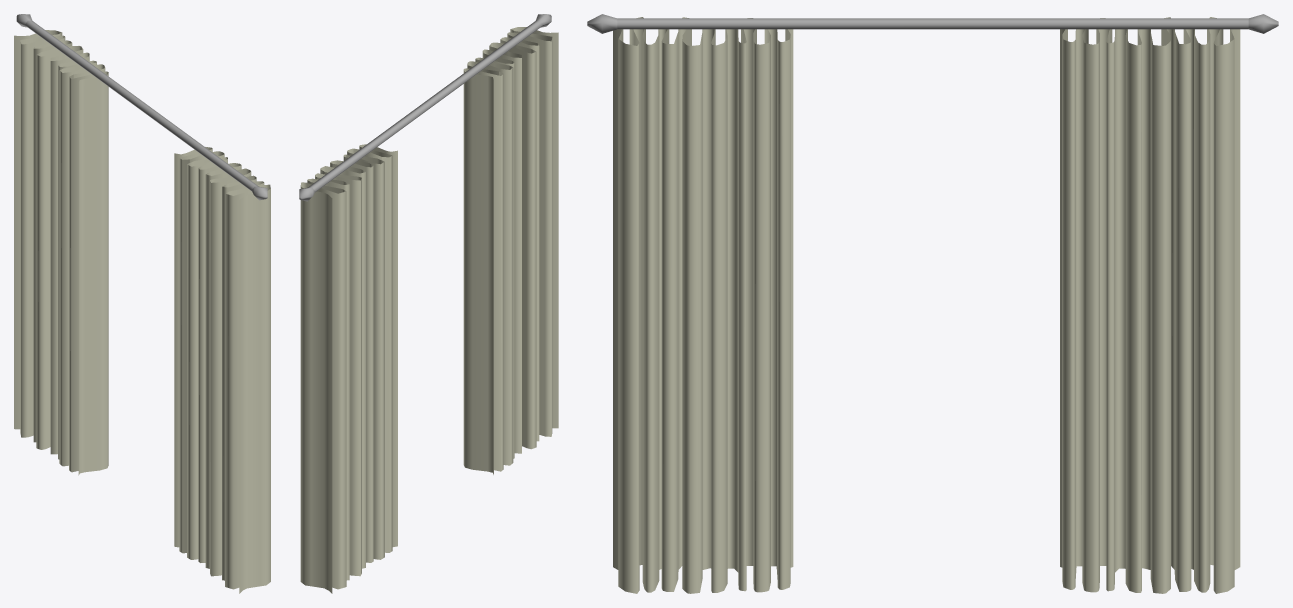
3 views of the same model, side by side, from view 1: azimuth 30°, elevation 25°; view 2: azimuth 150°, elevation 25°; view 3: azimuth 270°, elevation 25° (orthographic). The views are drawn at different scales.
Parts seen in each view (by area): view 1: Mesh5_Model; view 2: Mesh5_Model; view 3: Mesh5_Model.
Boxes of the visible parts, x1=… form: Mesh5_Model: x1=14, y1=14, x2=270, y2=593; Mesh5_Model: x1=299, y1=14, x2=558, y2=593; Mesh5_Model: x1=587, y1=14, x2=1278, y2=593.
Bounding box in the file's own units: 0.1 × 0.9 × 1.
